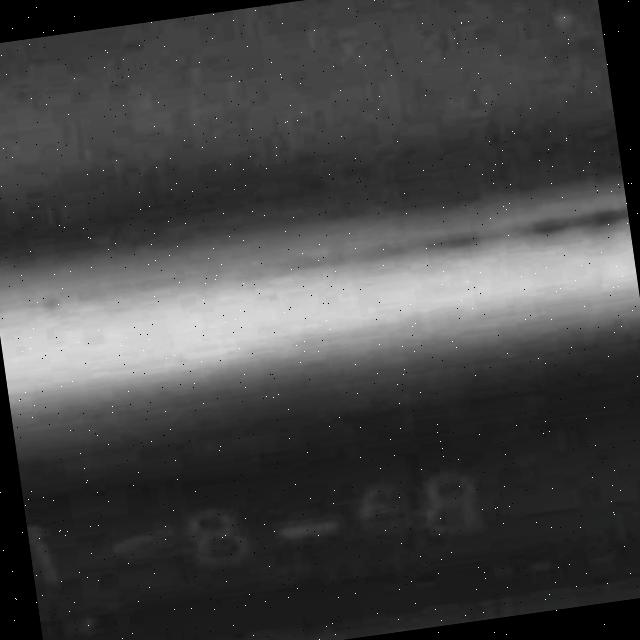LoP-LoF: (0, 190, 634, 347)
